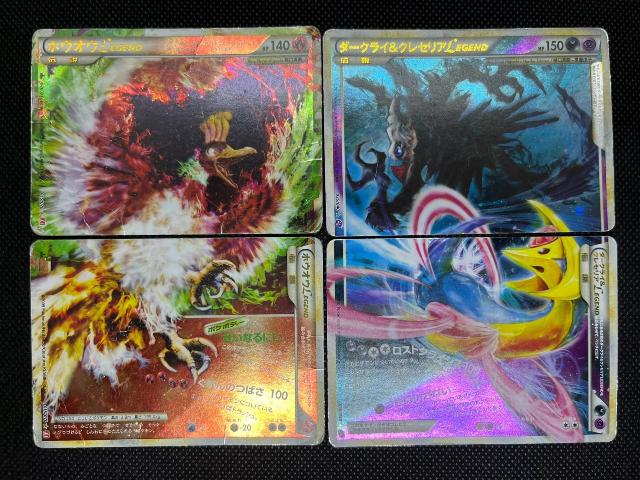Card: (325, 233, 620, 451), (26, 23, 324, 238), (28, 235, 326, 450), (322, 24, 618, 238)
Name: (333, 36, 498, 56), (41, 35, 149, 55), (588, 244, 610, 317), (298, 248, 315, 322)
